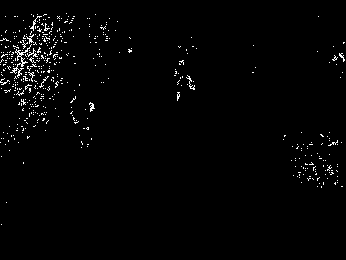person: (68, 94, 97, 148), (173, 59, 197, 103)
